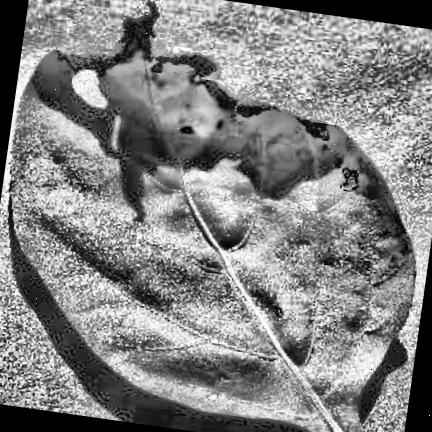leaf: (9, 0, 414, 432)
